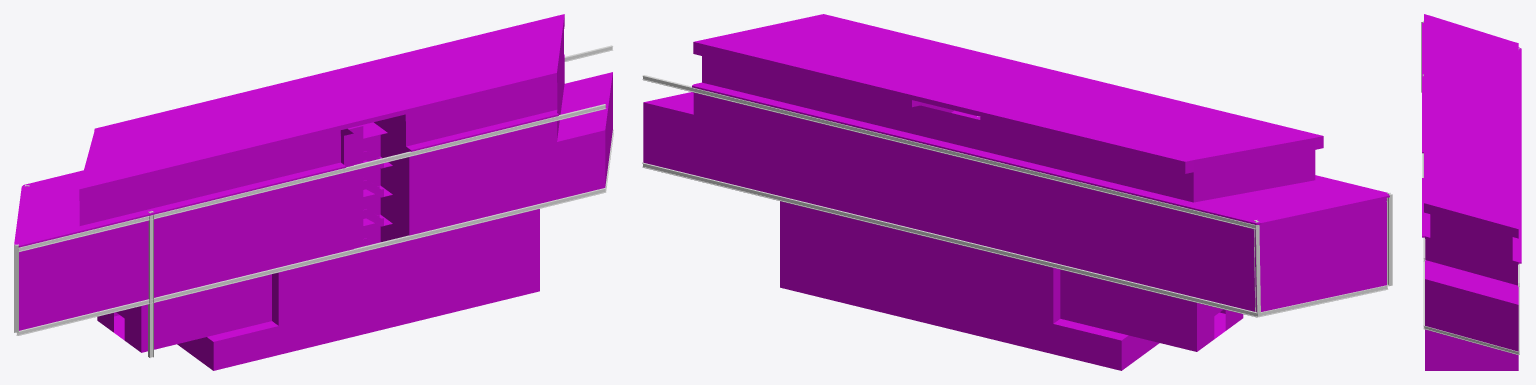
Rendered from PruebaNormales2.fbx.
3 renders of one model, left to right at view 1: azimuth 30°, elevation 25°; view 2: azimuth 150°, elevation 25°; view 3: azimuth 270°, elevation 25°, orthographic. The views are drawn at different scales.
Parts seen in each view (by area): view 1: Cube.017, Cube.004, Cube.010, Cube.005; view 2: Cube.017, Cube.003, Cube.009, Cube.001; view 3: Cube.017, Cube.007, Cube.003, Cube.004.
Boxes of the visible parts, bbox=[...] form: Cube.017: bbox=[14, 14, 612, 370]; Cube.004: bbox=[18, 188, 606, 335]; Cube.010: bbox=[18, 104, 606, 251]; Cube.005: bbox=[148, 211, 153, 357]; Cube.017: bbox=[643, 14, 1389, 370]; Cube.003: bbox=[642, 162, 1258, 317]; Cube.009: bbox=[642, 75, 1257, 229]; Cube.001: bbox=[1258, 285, 1388, 317]; Cube.017: bbox=[1422, 14, 1521, 370]; Cube.007: bbox=[1424, 325, 1518, 354]; Cube.003: bbox=[1518, 287, 1519, 354]; Cube.004: bbox=[1423, 261, 1424, 328].
Size of the model in its own units: 10080 by 3144 by 1639.
